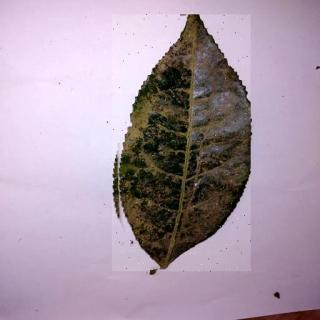Anthracnose: (113, 16, 252, 273)
